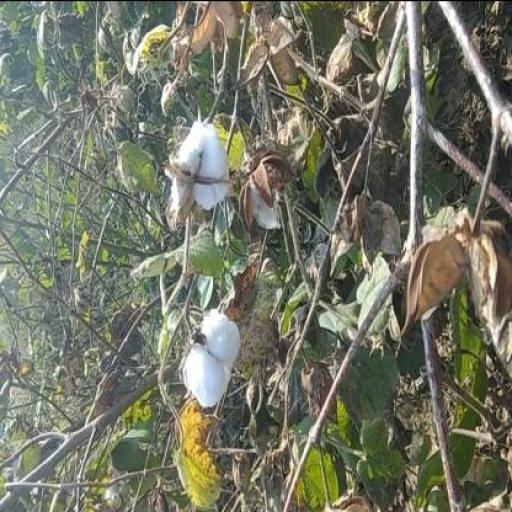cotton_ready: (160, 98, 250, 250), (172, 294, 255, 416)
